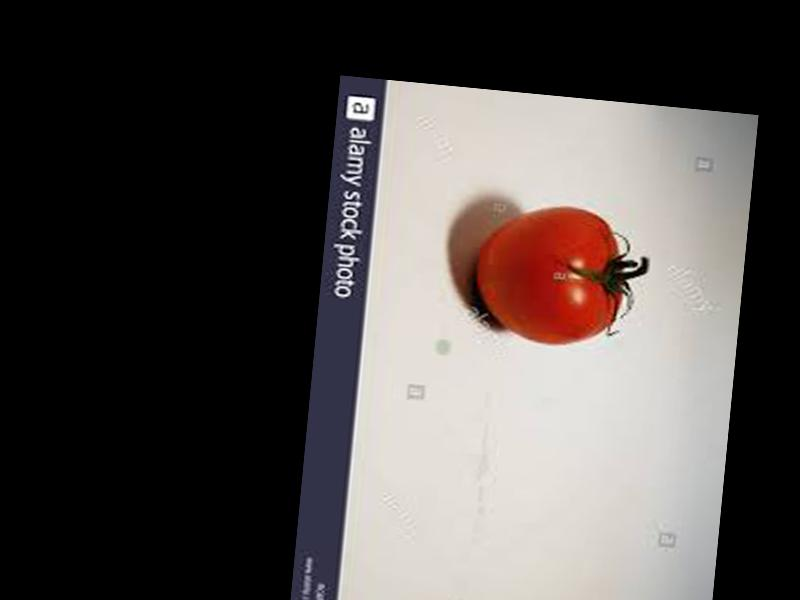Tomato: (469, 200, 627, 350)
